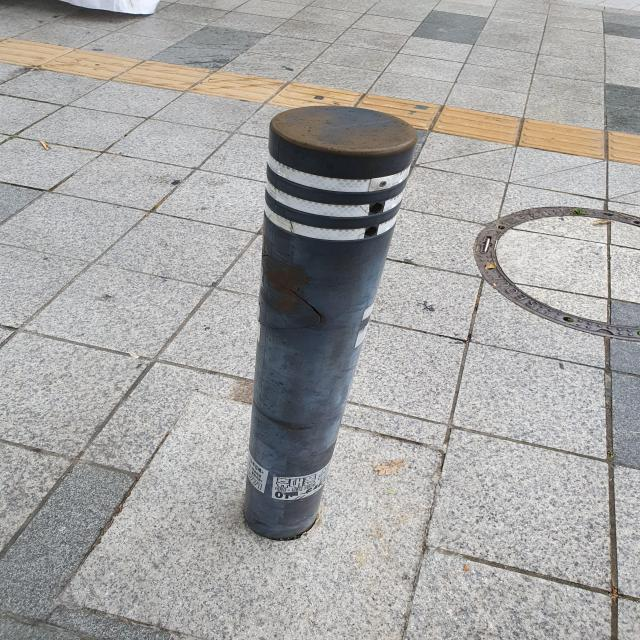pole: (235, 101, 416, 544)
